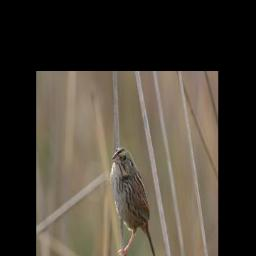Sparrow: (109, 146, 159, 256)
